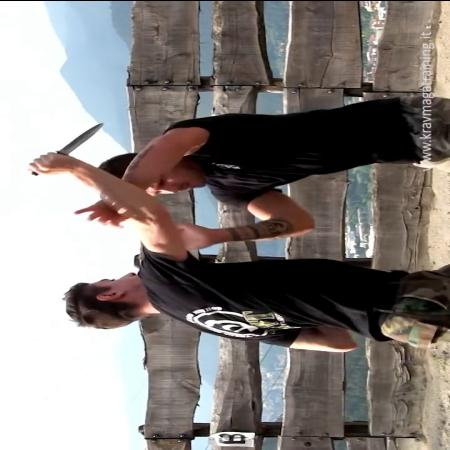long weapon: (26, 119, 108, 178)
